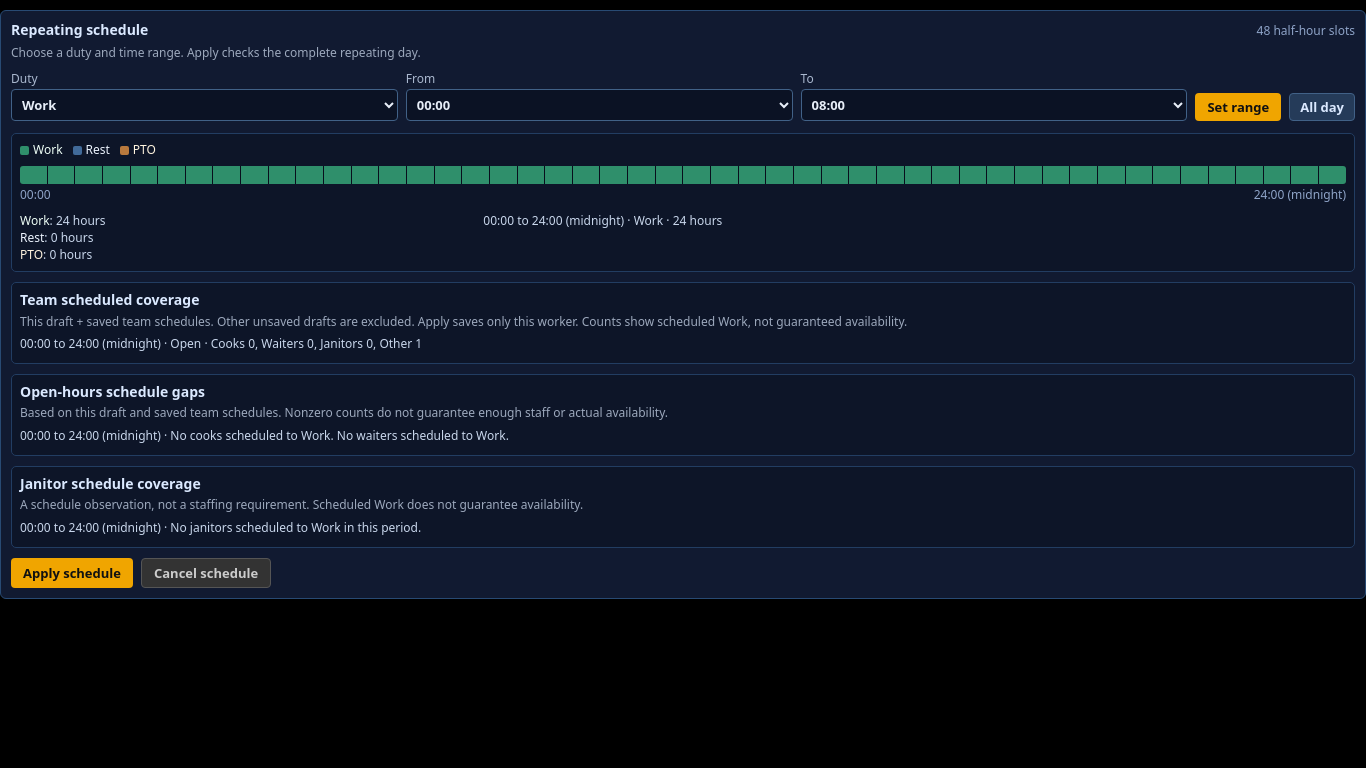
Test: StaffScheduleEditor › rejects equal range endpoints and advises using All day
Step 1. Select "04:00" in the dropdown labelled "From" → {"x": 599, "y": 105}, box [406,89,793,121]
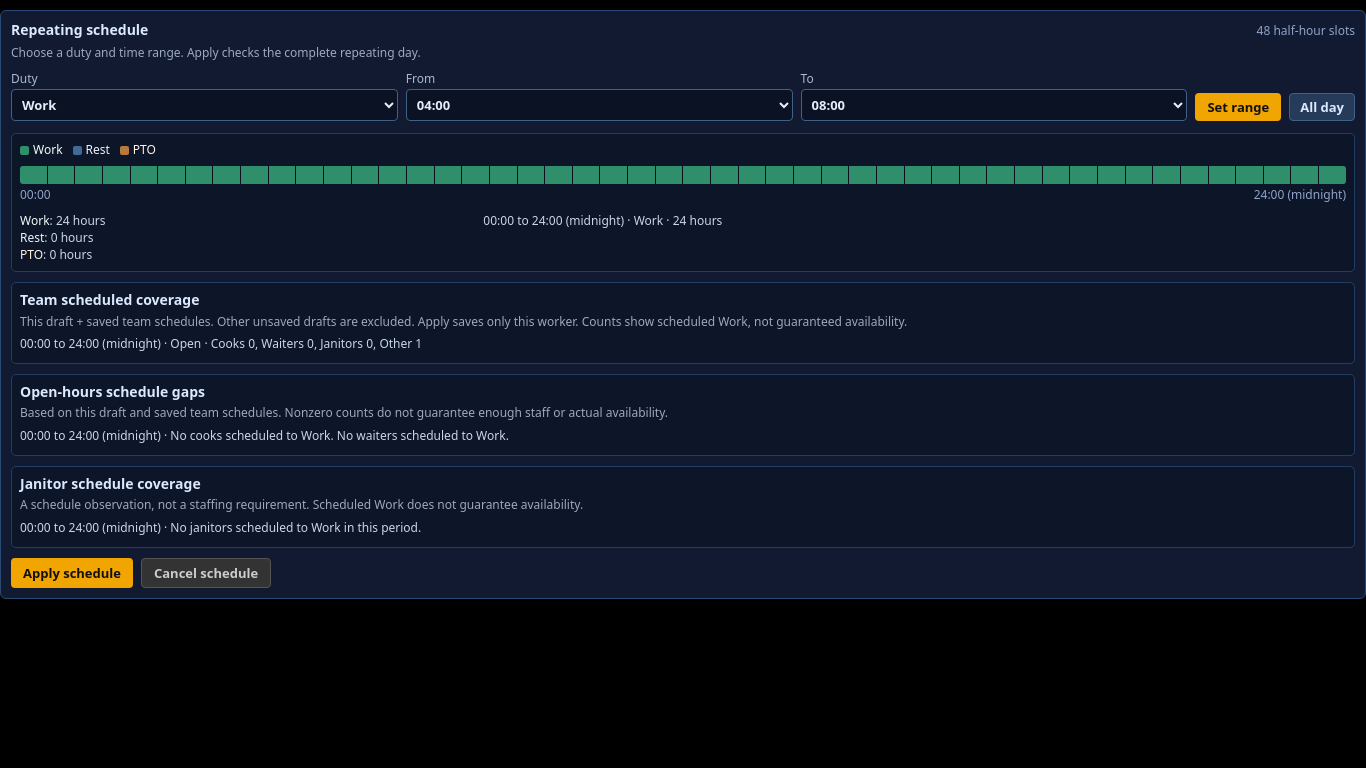
Step 2. Select "04:00" in the dropdown labelled "To" → {"x": 994, "y": 105}, box [801,89,1187,121]
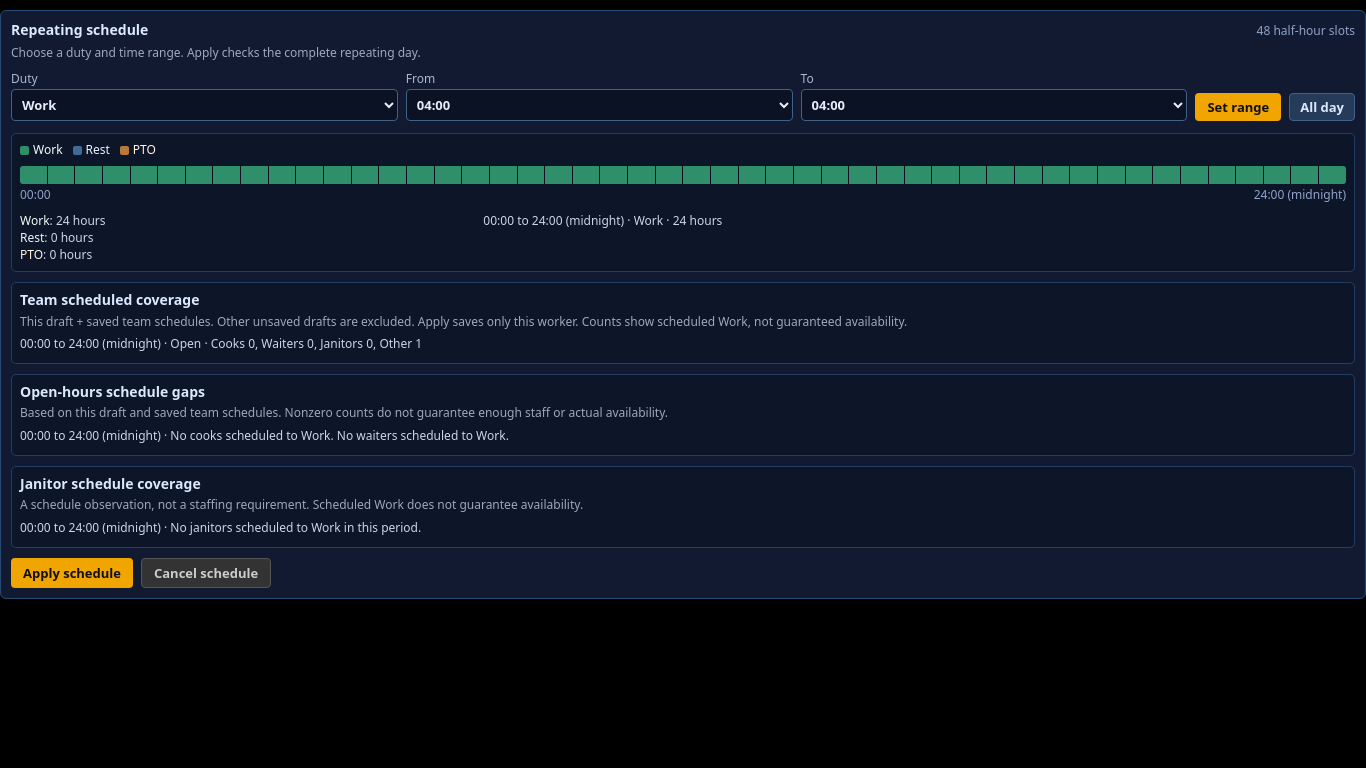
Step 3. Click the button "Set range" → {"x": 1238, "y": 107}, box [1195,93,1281,121]
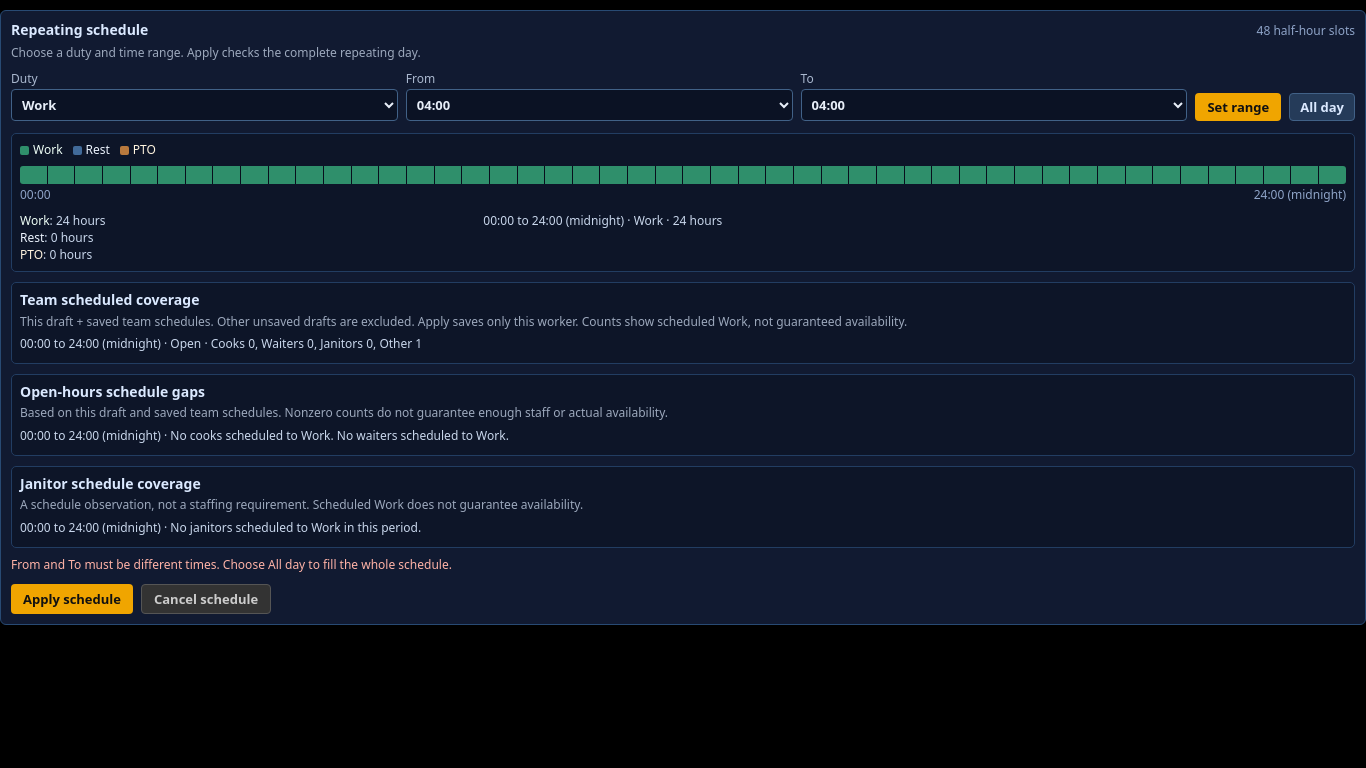
Now the message reads "From and To must be different times. Choose All day to fill the whole schedule.", box [11,556,452,573]
